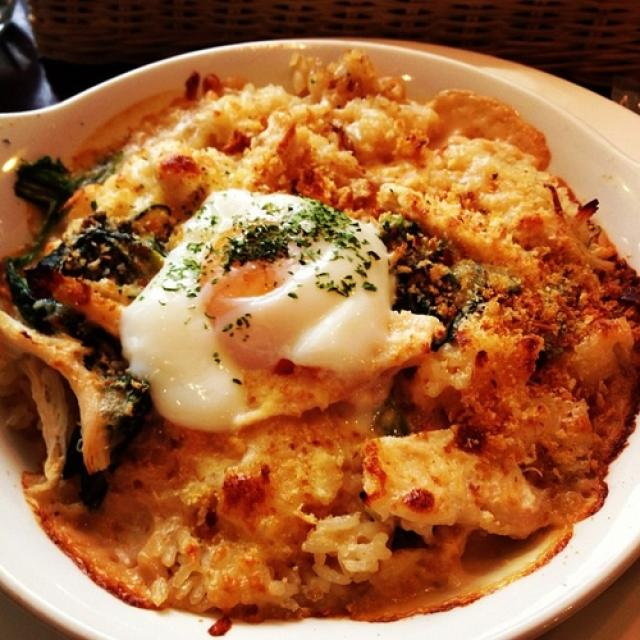米饭主食: (16, 55, 624, 618)
